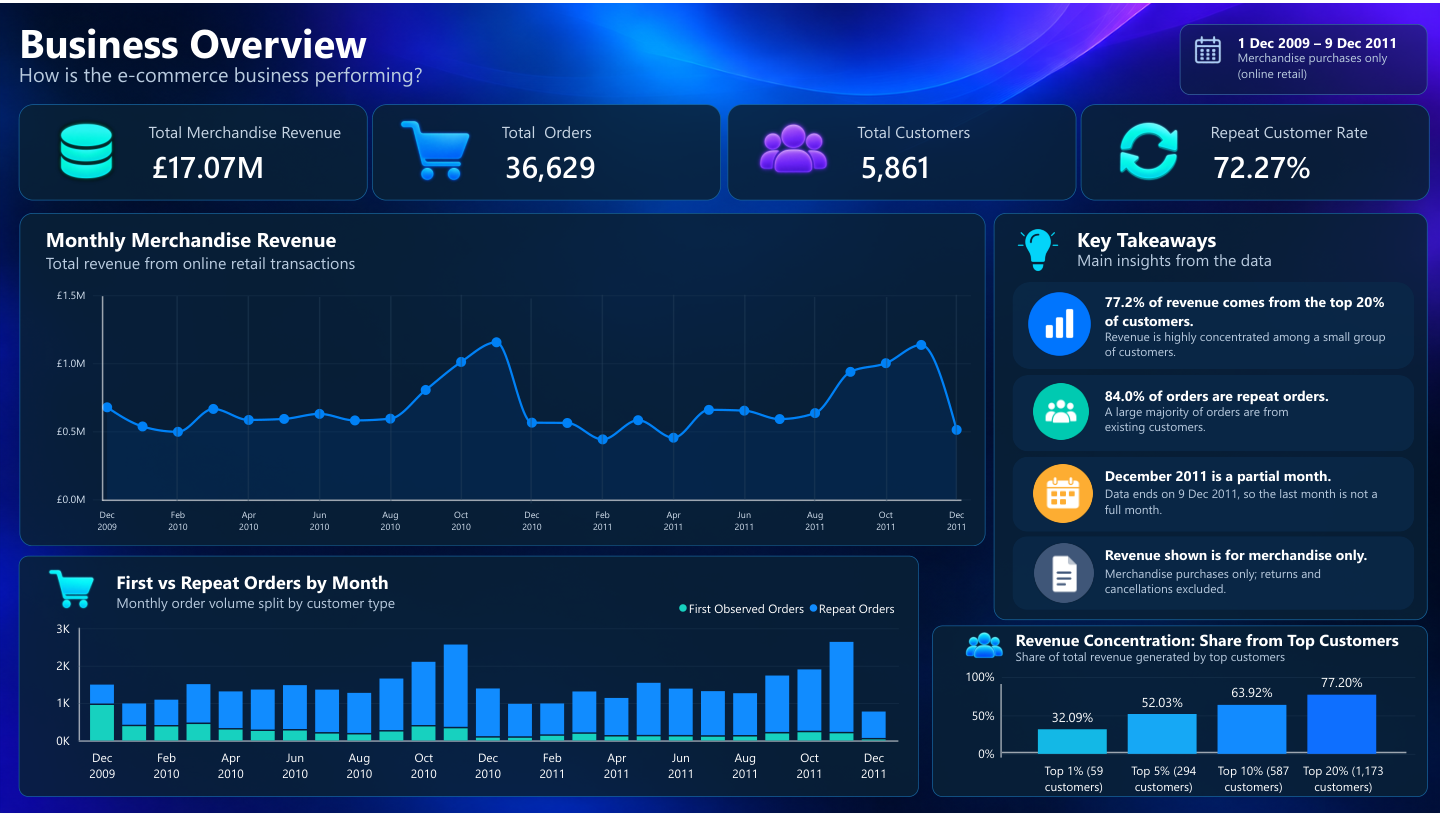

The page's visual inventory and layout, read from the dashboard file:
{"tool":"powerbi","page":{"name":"Business Overview","canvas":[1920,1080],"ordinal":0},"visuals":[{"type":"textbox","box":[25,14.3,628.6,76.8],"z":0},{"type":"shape","box":[25.8,278.6,1288.1,444.3],"z":1000},{"type":"textbox","box":[25,75,683.9,46.4],"z":2000},{"type":"textbox","box":[60.5,295.3,430.1,55.8],"z":3000},{"type":"textbox","box":[60.6,330,472.8,55.8],"z":4000},{"type":"shape","box":[1573.2,26.8,330.4,94.6],"z":5000},{"type":"shape","box":[496.4,133.9,465.2,128.3],"z":6000,"group":"g1"},{"type":"shape","box":[969.6,133.9,465.2,128.3],"z":6000,"group":"g2"},{"type":"shape","box":[1441.1,133.9,465.2,128.3],"z":6000,"group":"g3"},{"type":"areaChart","fields":{"Category":["monthly_business.month_axis_label"],"Y":["monthly_business.Monthly Revenue Axis"]},"box":[59.5,363.8,1254.4,359],"z":6000},{"type":"textbox","box":[1650,39.3,224.6,41.7],"z":7000},{"type":"textbox","box":[1650,60.7,237.5,60.7],"z":8000},{"type":"shape","box":[26.5,389.6,219.6,273],"z":9000},{"type":"cardVisual","fields":{"Data":["Sum(kpi_summary.total_orders)"]},"box":[657.1,175,187.5,80.4],"z":10000,"group":"g1"},{"type":"cardVisual","fields":{"Data":["Sum(kpi_summary.total_customers)"]},"box":[1130.3,175,187.5,80.4],"z":10000,"group":"g2"},{"type":"cardVisual","fields":{"Data":["Sum(kpi_summary.repeat_customer_rate)"]},"box":[1601.8,175,187.5,80.4],"z":10000,"group":"g3"},{"type":"shape","box":[137.2,587.8,1145,148.2],"z":10000},{"type":"image","box":[1546.4,21.4,128.6,78.6],"z":11000},{"type":"textbox","box":[669.6,156.3,275,33.9],"z":11000,"group":"g1"},{"type":"textbox","box":[1142.8,156.3,275,33.9],"z":11000,"group":"g2"},{"type":"textbox","box":[1614.3,156.3,275,33.9],"z":11000,"group":"g3"},{"type":"image","box":[512,126.3,141.1,130.4],"z":12000,"group":"g1"},{"type":"image","box":[989.9,129.3,135.7,123.2],"z":12000,"group":"g2"},{"type":"image","box":[1469.5,139.9,125,112.5],"z":12000,"group":"g3"},{"type":"shape","box":[221.4,389.6,30.4,273.2],"z":12000},{"type":"shape","box":[25,133.9,465.2,128.3],"z":13000},{"type":"shape","box":[316.4,389.6,30.4,273.2],"z":14000},{"type":"group","id":"g1","title":"Group 1","box":[496.4,126.3,465.2,136],"z":15000},{"type":"shape","box":[411.4,391.4,30.4,273.2],"z":16000},{"type":"group","id":"g2","title":"Group 1","box":[969.6,129.3,465.2,133],"z":17000},{"type":"cardVisual","fields":{"Data":["Sum(kpi_summary.total_revenue)"]},"box":[185.7,175,187.5,80.4],"z":18000},{"type":"shape","box":[506.4,389.6,30.4,273.2],"z":19000},{"type":"shape","box":[600.4,387.8,30.4,273.2],"z":20000},{"type":"group","id":"g3","title":"Group 1","box":[1441.1,133.9,465.2,128.3],"z":21000},{"type":"textbox","box":[198.2,156.3,275,33.9],"z":22000},{"type":"shape","box":[693.4,393.2,30.4,273.2],"z":23000},{"type":"shape","box":[788.4,387.8,30.4,273.2],"z":24000},{"type":"image","box":[46.4,133.9,139.3,128.6],"z":25000},{"type":"shape","box":[883.4,387.8,30.4,273.2],"z":26000},{"type":"shape","box":[978.4,387.8,30.4,273.2],"z":27000},{"type":"shape","box":[1325,278.6,578.6,542.9],"z":28000},{"type":"shape","box":[1071.4,391.4,30.4,273.2],"z":29000},{"type":"textbox","box":[1435.7,294.6,219.2,49],"z":30000},{"type":"textbox","box":[1435.7,326.8,330.1,41.3],"z":31000},{"type":"image","box":[1312.5,278.6,142.3,97],"z":32000},{"type":"shape","box":[1350,371.4,535.7,116.1],"z":33000},{"type":"shape","box":[1350,494.6,535.7,101.8],"z":34000},{"type":"shape","box":[1350,603.6,535.7,100],"z":35000},{"type":"shape","box":[1350,710,535.7,98.2],"z":36000},{"type":"image","box":[1357.1,384,112.5,85.7],"z":37000},{"type":"image","box":[1366.1,505.4,98.2,76.8],"z":38000},{"type":"image","box":[1362.5,612.5,108.9,80.4],"z":39000},{"type":"image","box":[1373.2,717.9,91.1,82],"z":40000},{"type":"textbox","box":[1473.2,383.9,383.9,58.9],"z":41000},{"type":"textbox","box":[1473.2,432.1,383.9,55.4],"z":42000},{"type":"textbox","box":[1473,508.9,350.8,38.7],"z":43000},{"type":"textbox","box":[1473.2,532.1,278.6,55.4],"z":44000},{"type":"textbox","box":[1473.2,616,384.3,41.3],"z":45000},{"type":"textbox","box":[1473.2,642,373.2,55.4],"z":46000},{"type":"textbox","box":[490,134,219,150],"z":47000},{"type":"textbox","box":[1473,722.2,376.6,43.8],"z":48000},{"type":"textbox","box":[1473.2,748,367.9,55.4],"z":49000},{"type":"shape","box":[25,735.7,1200,321.4],"z":50000},{"type":"textbox","box":[155.4,753.6,415.3,46.4],"z":51000},{"type":"textbox","box":[155.4,785.7,417.8,46.4],"z":52000},{"type":"textbox","box":[709,129,605,150],"z":53000},{"type":"image","box":[50,737.5,91.1,78.6],"z":54000},{"type":"shape","box":[96.4,832.1,19.6,150],"z":55000},{"type":"shape","box":[105.4,908.9,1092.9,148.2],"z":56000},{"type":"shape","box":[1242.9,828.6,660.7,228.6],"z":57000},{"type":"image","box":[1280.4,826,64.3,57.1],"z":58000},{"type":"textbox","box":[1353.6,833.1,533.9,28.6],"z":59000},{"type":"textbox","box":[1325,129,579,150],"z":60000},{"type":"textbox","box":[1353.6,858.9,466.1,39.3],"z":61000},{"type":"shape","box":[1225,907,219.6,98.2],"z":62000},{"type":"shape","box":[1335.7,959.9,539.3,76.8],"z":63000},{"type":"clusteredColumnChart","fields":{"Category":["revenue_concentration.top_customer_axis_label"],"Y":["revenue_concentration.Revenue Share Display"]},"box":[1271.4,872.4,631.9,201.2],"z":64000},{"type":"columnChart","fields":{"Category":["monthly_order_type.month_axis_label"],"Y":["Sum(monthly_order_type.first_observed_orders)","Sum(monthly_order_type.repeat_orders)"]},"box":[58.9,775,1155.4,280.4],"z":65000},{"type":"shape","box":[1167,390.8,30.4,273.2],"z":66000},{"type":"shape","box":[1260,388,30.4,273.2],"z":67000}]}

Visuals, with their boxes in screenshot pixels (x1, y1, x2, y2), scaled from the page's 1920x1080 canvas onto the 1440x818 screenshot:
textbox: box=[19, 11, 490, 69]
shape: box=[19, 211, 985, 548]
textbox: box=[19, 57, 532, 92]
textbox: box=[45, 224, 368, 266]
textbox: box=[45, 250, 400, 292]
shape: box=[1180, 20, 1428, 92]
shape: box=[372, 101, 721, 199]
shape: box=[727, 101, 1076, 199]
shape: box=[1081, 101, 1430, 199]
areaChart - monthly_business.month_axis_label x monthly_business.Monthly Revenue Axis: box=[45, 276, 985, 547]
textbox: box=[1238, 30, 1406, 61]
textbox: box=[1238, 46, 1416, 92]
shape: box=[20, 295, 185, 502]
cardVisual - Sum(kpi_summary.total_orders): box=[493, 133, 633, 193]
cardVisual - Sum(kpi_summary.total_customers): box=[848, 133, 988, 193]
cardVisual - Sum(kpi_summary.repeat_customer_rate): box=[1201, 133, 1342, 193]
shape: box=[103, 445, 962, 557]
image: box=[1160, 16, 1256, 76]
textbox: box=[502, 118, 708, 144]
textbox: box=[857, 118, 1063, 144]
textbox: box=[1211, 118, 1417, 144]
image: box=[384, 96, 490, 194]
image: box=[742, 98, 844, 191]
image: box=[1102, 106, 1196, 191]
shape: box=[166, 295, 189, 502]
shape: box=[19, 101, 368, 199]
shape: box=[237, 295, 260, 502]
"Group 1" group: box=[372, 96, 721, 199]
shape: box=[309, 296, 331, 503]
"Group 1" group: box=[727, 98, 1076, 199]
cardVisual - Sum(kpi_summary.total_revenue): box=[139, 133, 280, 193]
shape: box=[380, 295, 403, 502]
shape: box=[450, 294, 473, 501]
"Group 1" group: box=[1081, 101, 1430, 199]
textbox: box=[149, 118, 355, 144]
shape: box=[520, 298, 543, 505]
shape: box=[591, 294, 614, 501]
image: box=[35, 101, 139, 199]
shape: box=[663, 294, 685, 501]
shape: box=[734, 294, 757, 501]
shape: box=[994, 211, 1428, 622]
shape: box=[804, 296, 826, 503]
textbox: box=[1077, 223, 1241, 260]
textbox: box=[1077, 248, 1324, 279]
image: box=[984, 211, 1091, 284]
shape: box=[1012, 281, 1414, 369]
shape: box=[1012, 375, 1414, 452]
shape: box=[1012, 457, 1414, 533]
shape: box=[1012, 538, 1414, 612]
image: box=[1018, 291, 1102, 356]
image: box=[1025, 383, 1098, 441]
image: box=[1022, 464, 1104, 525]
image: box=[1030, 544, 1098, 606]
textbox: box=[1105, 291, 1393, 335]
textbox: box=[1105, 327, 1393, 369]
textbox: box=[1105, 385, 1368, 415]
textbox: box=[1105, 403, 1314, 445]
textbox: box=[1105, 467, 1393, 498]
textbox: box=[1105, 486, 1385, 528]
textbox: box=[368, 101, 532, 215]
textbox: box=[1105, 547, 1387, 580]
textbox: box=[1105, 567, 1381, 609]
shape: box=[19, 557, 919, 801]
textbox: box=[117, 571, 428, 606]
textbox: box=[117, 595, 430, 630]
textbox: box=[532, 98, 986, 211]
image: box=[38, 559, 106, 618]
shape: box=[72, 630, 87, 744]
shape: box=[79, 688, 899, 801]
shape: box=[932, 628, 1428, 801]
image: box=[960, 626, 1009, 669]
textbox: box=[1015, 631, 1416, 653]
textbox: box=[994, 98, 1428, 211]
textbox: box=[1015, 651, 1365, 680]
shape: box=[919, 687, 1083, 761]
shape: box=[1002, 727, 1406, 785]
clusteredColumnChart - revenue_concentration.top_customer_axis_label x revenue_concentration.Revenue Share Display: box=[954, 661, 1427, 813]
columnChart - monthly_order_type.month_axis_label x Sum(monthly_order_type.first_observed_orders): box=[44, 587, 911, 799]
shape: box=[875, 296, 898, 503]
shape: box=[945, 294, 968, 501]
